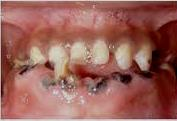Caries: (87, 76, 108, 95), (110, 71, 132, 86), (134, 67, 152, 81)
